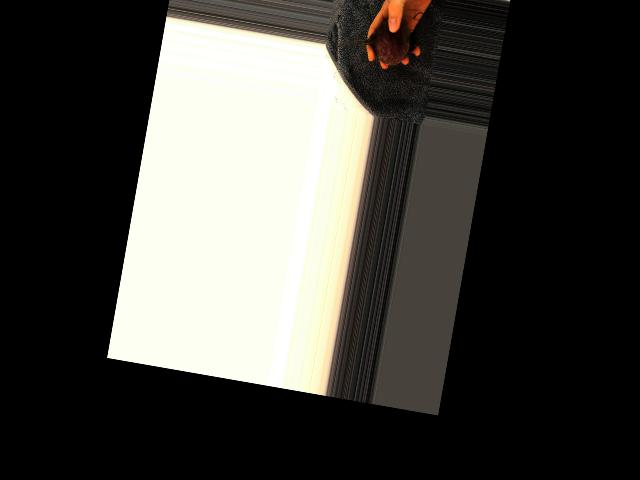beet: (334, 8, 419, 69)
